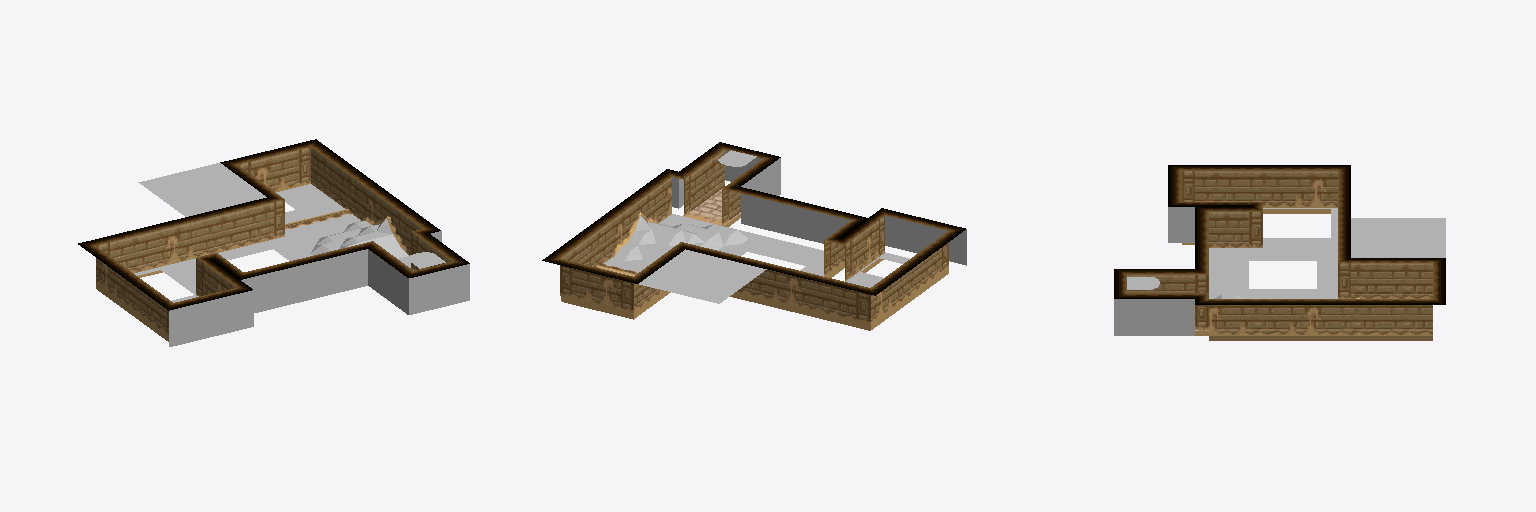
3 views of the same model, side by side, from view 1: azimuth 30°, elevation 25°; view 2: azimuth 150°, elevation 25°; view 3: azimuth 270°, elevation 25° (orthographic).
Visible parts, largest first — view 1: polygon1, polygon4, polygon2, polygon5, polygon6; view 2: polygon1, polygon2, polygon4, polygon5, polygon6, polygon3; view 3: polygon1, polygon4, polygon2, polygon5, polygon6, polygon3.
Part boxes in pixels (left/top/right/bottom): polygon1: left=134, top=163, right=469, bottom=346; polygon4: left=96, top=147, right=400, bottom=340; polygon2: left=78, top=139, right=469, bottom=310; polygon5: left=96, top=150, right=421, bottom=297; polygon6: left=97, top=147, right=417, bottom=341; polygon1: left=601, top=150, right=966, bottom=303; polygon2: left=542, top=142, right=965, bottom=295; polygon4: left=561, top=193, right=941, bottom=329; polygon5: left=572, top=177, right=891, bottom=323; polygon6: left=560, top=175, right=948, bottom=330; polygon3: left=691, top=150, right=740, bottom=219; polygon1: left=1114, top=207, right=1445, bottom=335; polygon4: left=1195, top=171, right=1432, bottom=340; polygon2: left=1114, top=165, right=1445, bottom=304; polygon5: left=1209, top=171, right=1337, bottom=340; polygon6: left=1182, top=171, right=1350, bottom=335; polygon3: left=1127, top=275, right=1194, bottom=292.
Bounding box in the file's own units: 12.19 × 1.78 × 12.25.
11 materials, 9 textured.